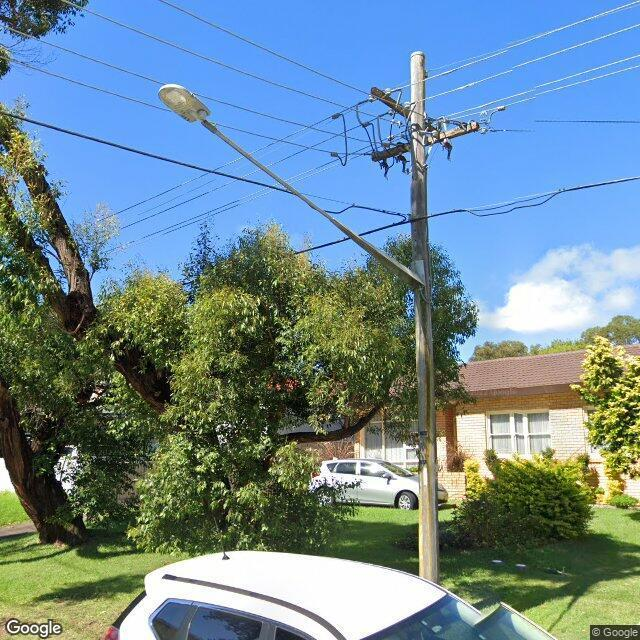crossarm: (368, 120, 482, 162), (368, 88, 439, 133)
streetlight: (156, 85, 427, 290)
timber-pole: (411, 52, 440, 585)
